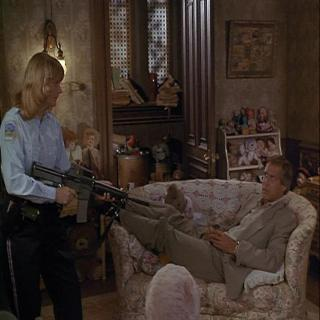gun: (27, 150, 156, 238)
